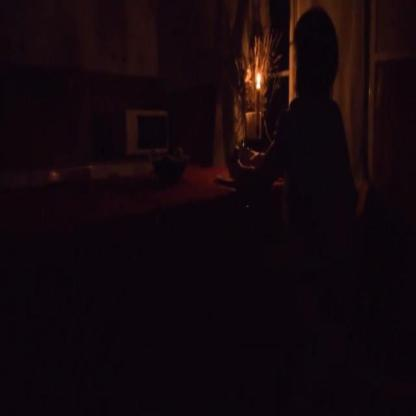Fire: (254, 69, 263, 88)
